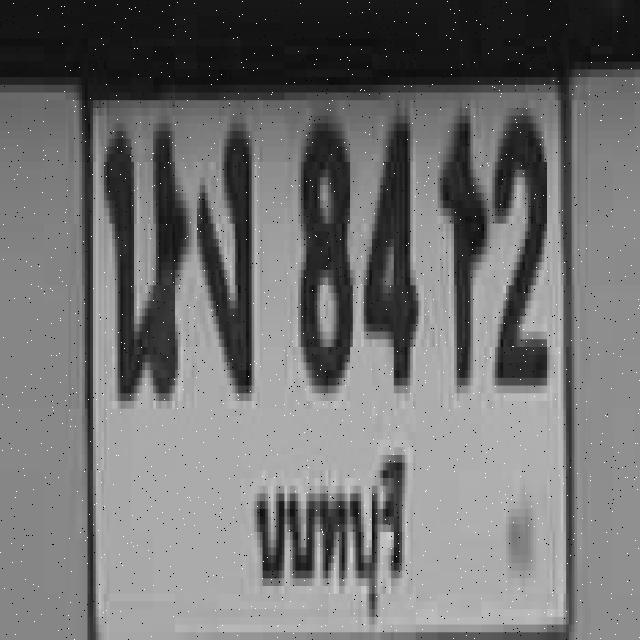1: (438, 108, 484, 378)
16NgorNgu: (196, 120, 250, 390)
2: (492, 108, 544, 378)
34NorNu: (102, 116, 184, 402)
4: (362, 108, 416, 378)
8: (298, 116, 350, 386)
Nonthaburi: (244, 440, 402, 628)
